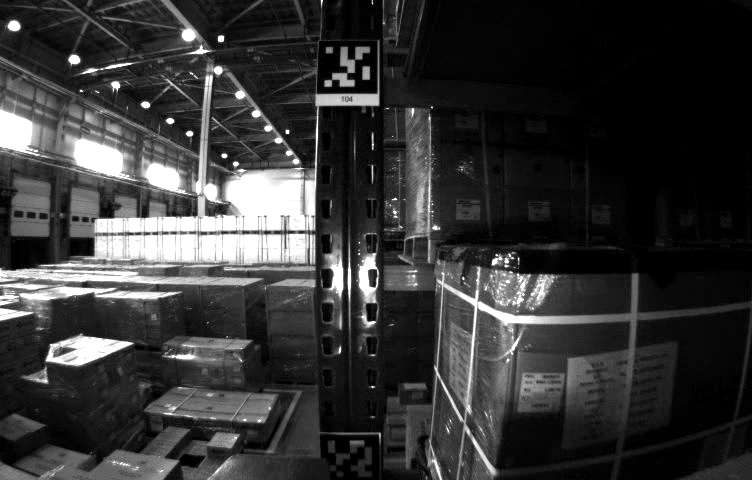True Barcode: (522, 371, 561, 412)
